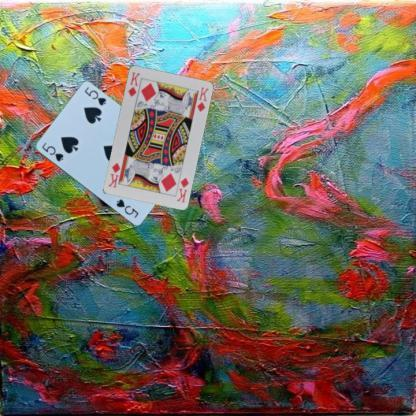5s: (38, 140, 64, 163)
Kd: (174, 174, 190, 204), (126, 69, 142, 98)
